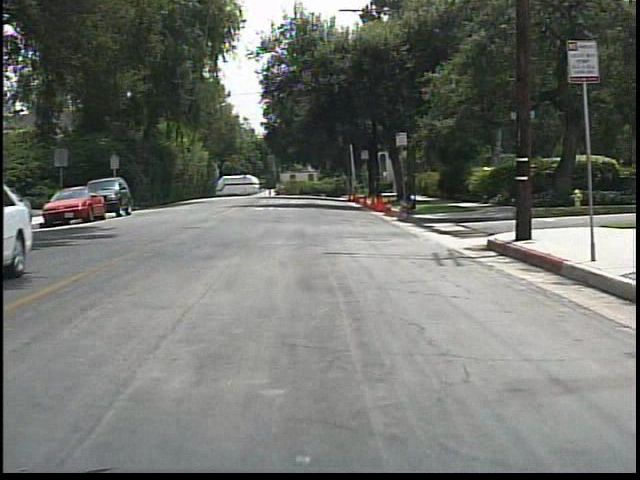person: (395, 191, 424, 224)
